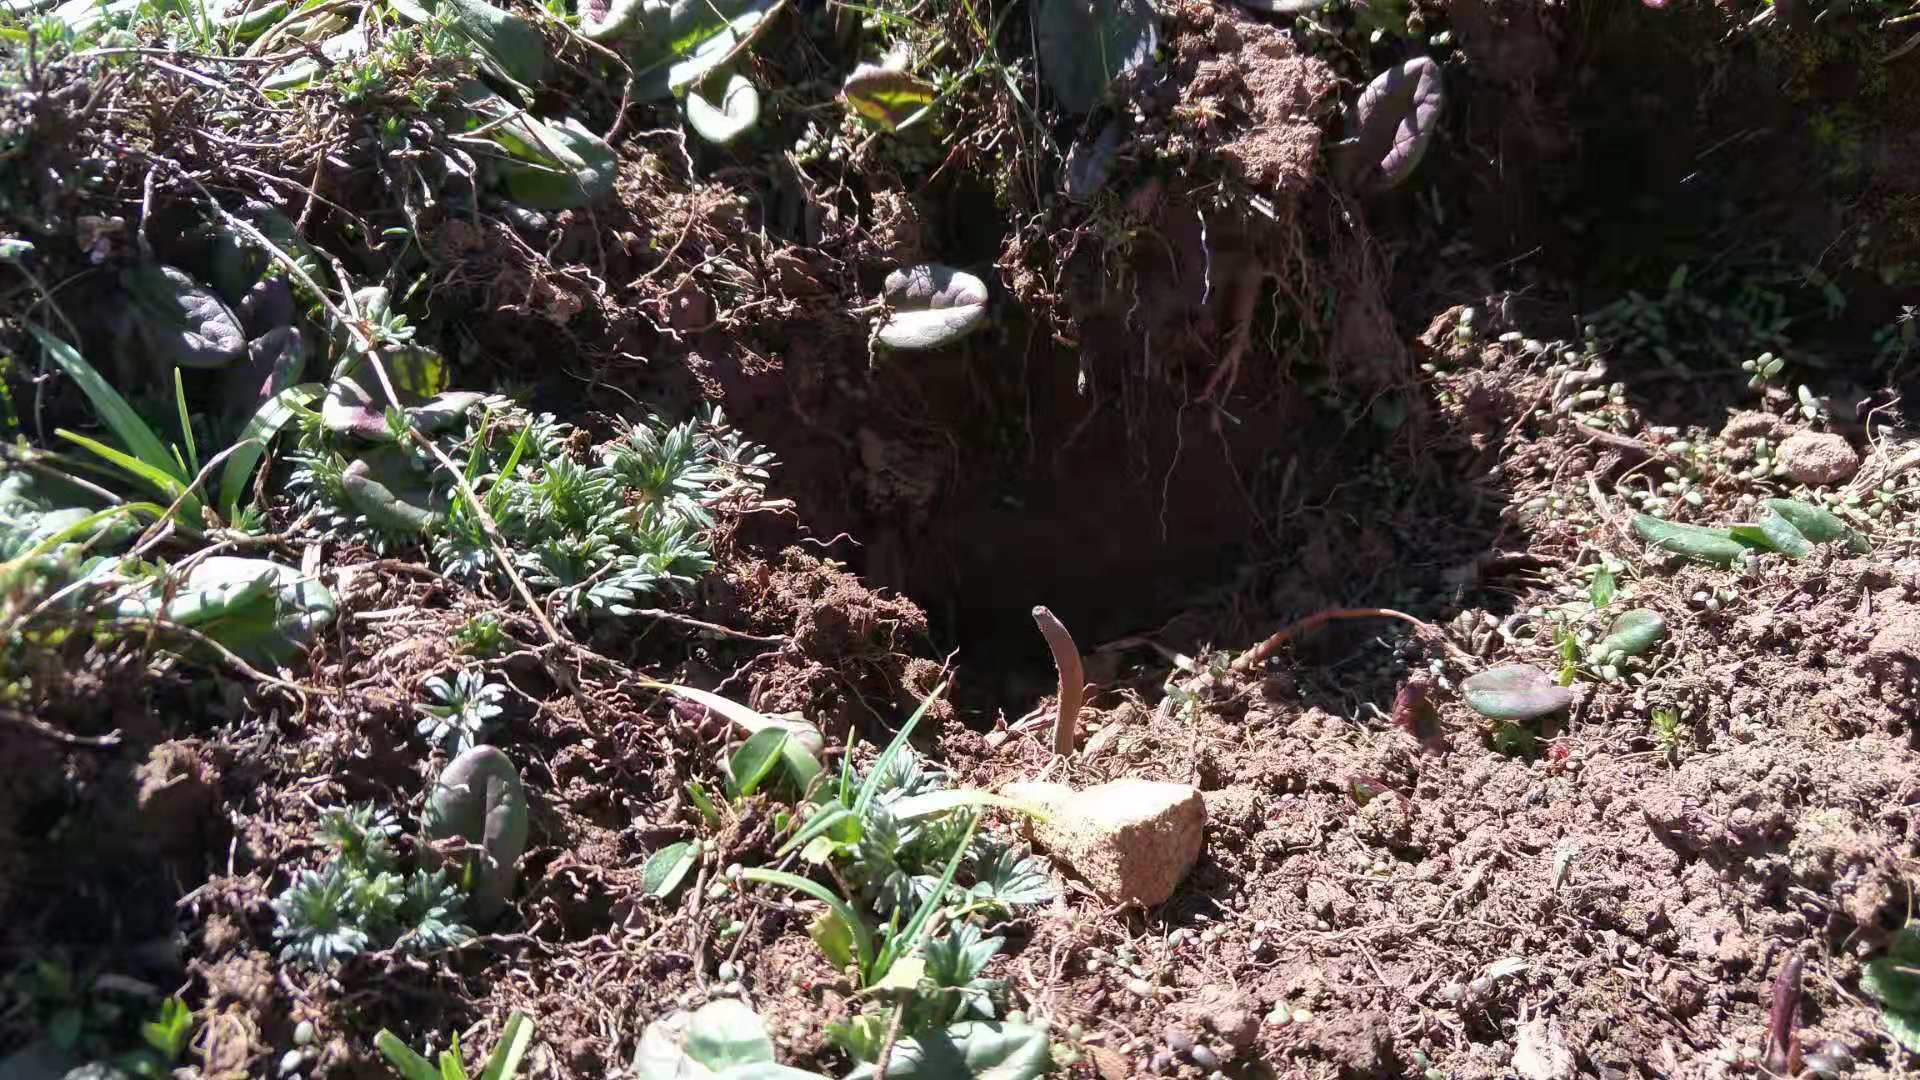cpf: (1031, 605, 1091, 770)
